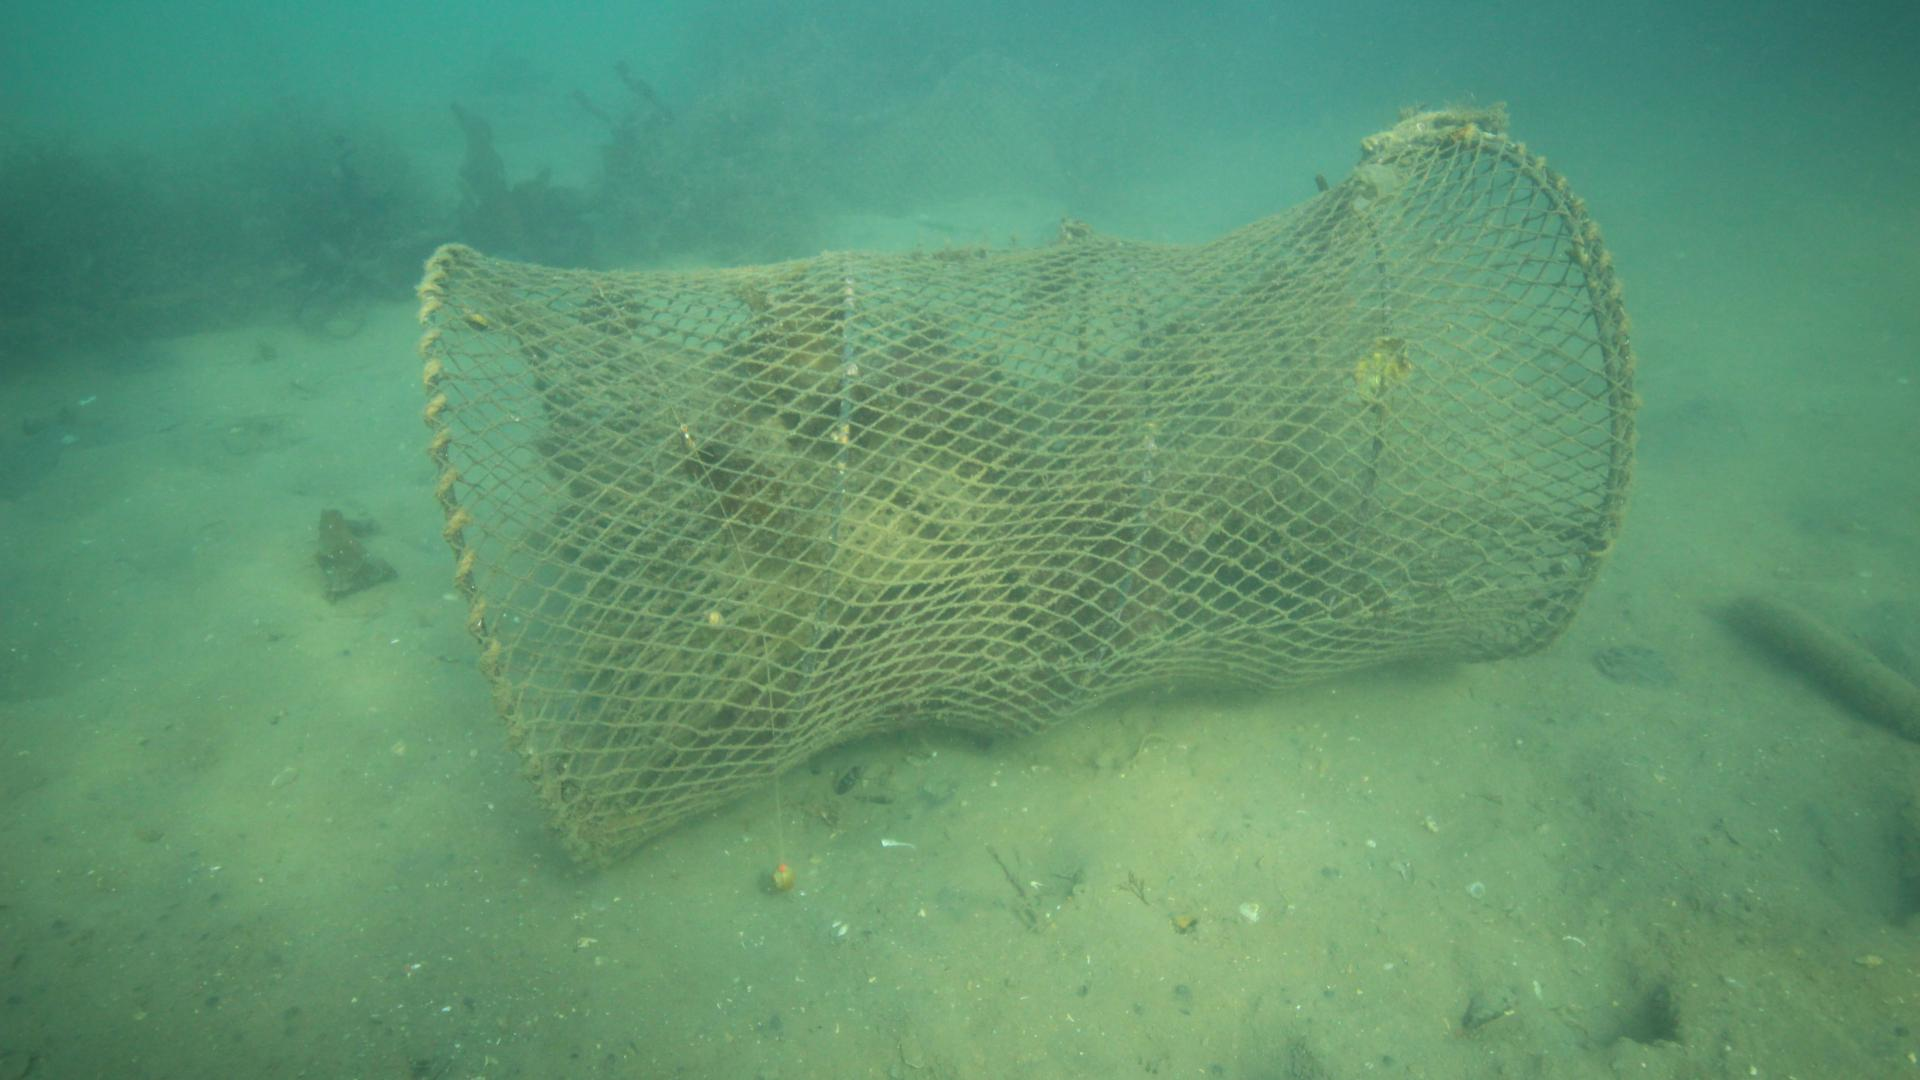spring fish trap: (417, 120, 1640, 880)
